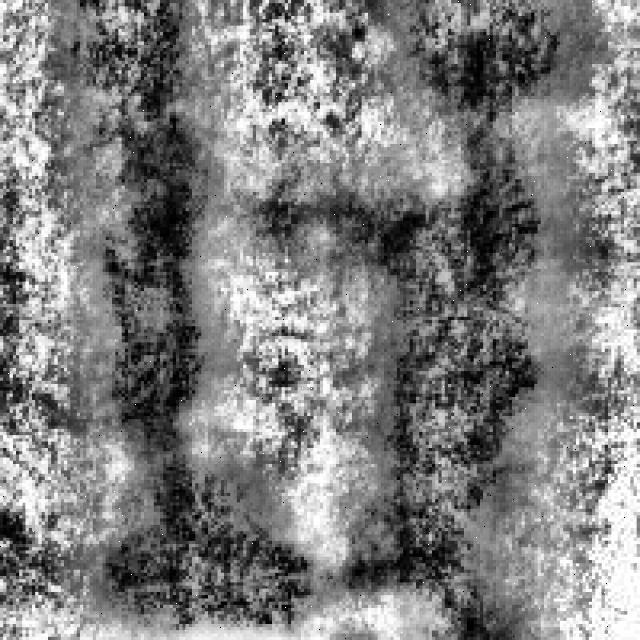Scratches: (298, 118, 572, 637), (61, 0, 228, 445), (74, 451, 332, 634), (365, 0, 592, 115)
